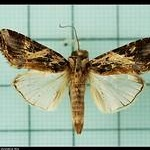Spodoptera litura: (1, 22, 149, 134)
